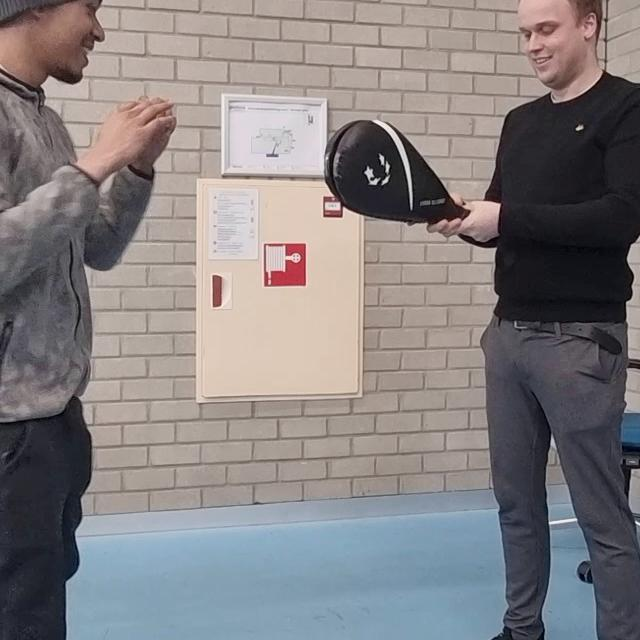paddle: (324, 119, 464, 224)
